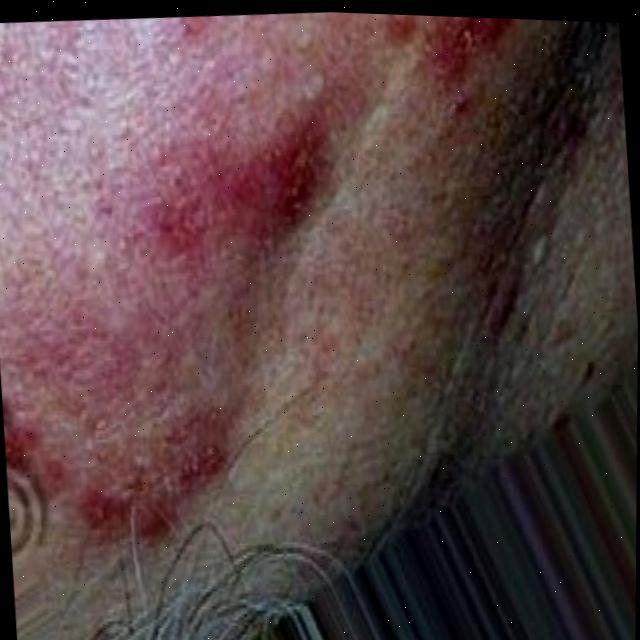Rosacea: (0, 0, 412, 504)
